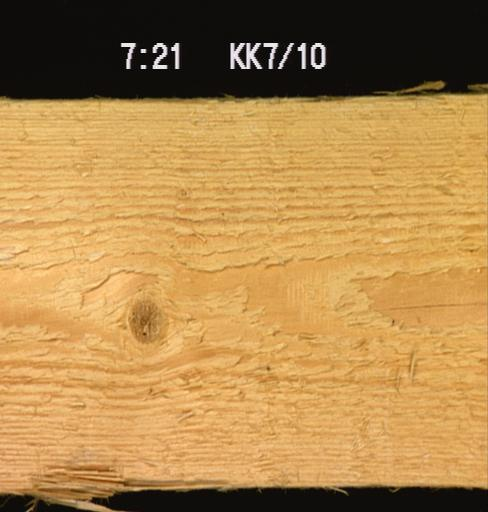sound_knot: (123, 295, 169, 345)
split: (365, 295, 487, 312)
wave: (0, 460, 231, 504)
